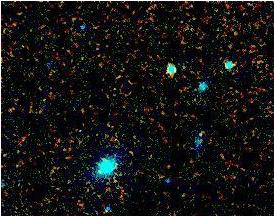star: (191, 117, 221, 147)
